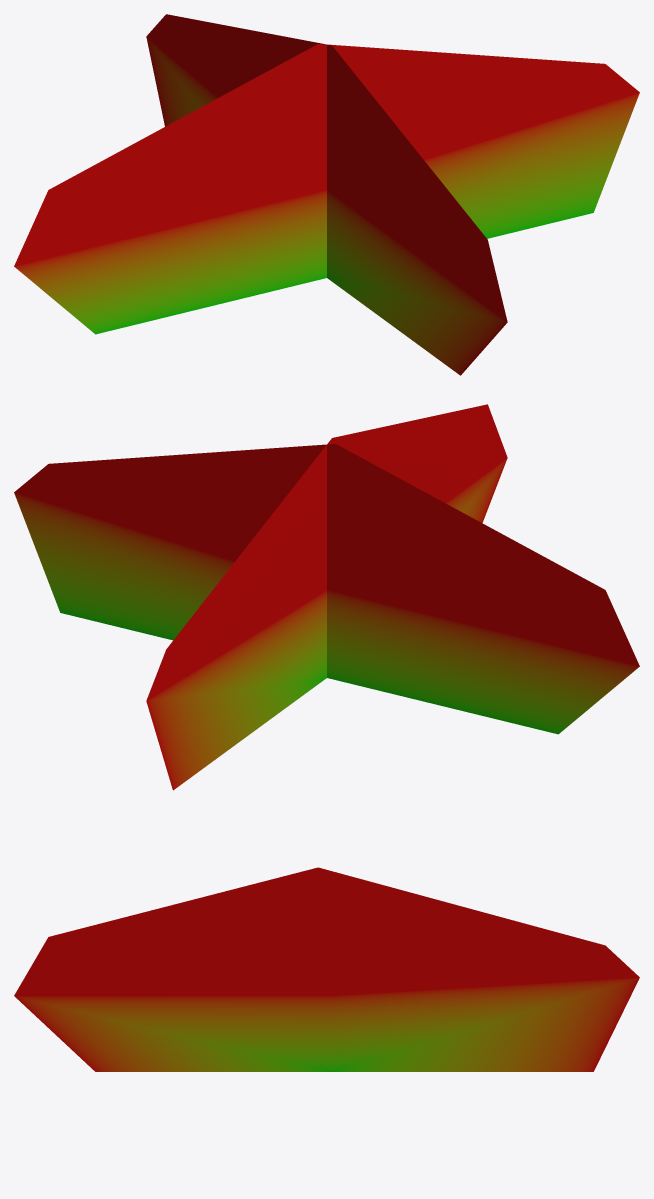
File: Kikuyu Grass_LOD6_Var8_wiljearqx.fbx
3 views of the same model, one above another, from view 1: azimuth 30°, elevation 25°; view 2: azimuth 150°, elevation 25°; view 3: azimuth 270°, elevation 25° (orthographic). The views are drawn at different scales.
Parts seen in each view (by area): view 1: _kzz0_Var8_LOD6; view 2: _kzz0_Var8_LOD6; view 3: _kzz0_Var8_LOD6.
Part boxes in pixels (bbox=[...]): _kzz0_Var8_LOD6: bbox=[14, 14, 639, 375]; _kzz0_Var8_LOD6: bbox=[14, 404, 639, 790]; _kzz0_Var8_LOD6: bbox=[14, 867, 639, 1071].
Bounding box in the file's own units: 105 × 38.01 × 105.
